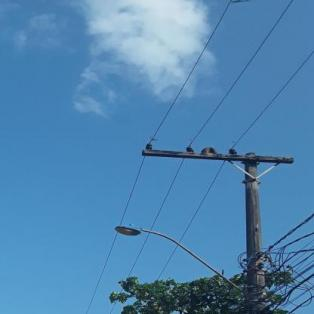Poste: (234, 145, 300, 314)
